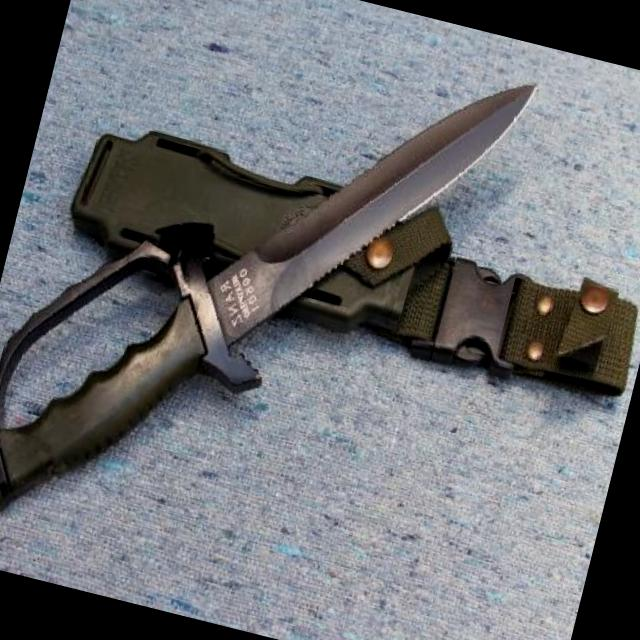knife: (146, 0, 549, 452)
